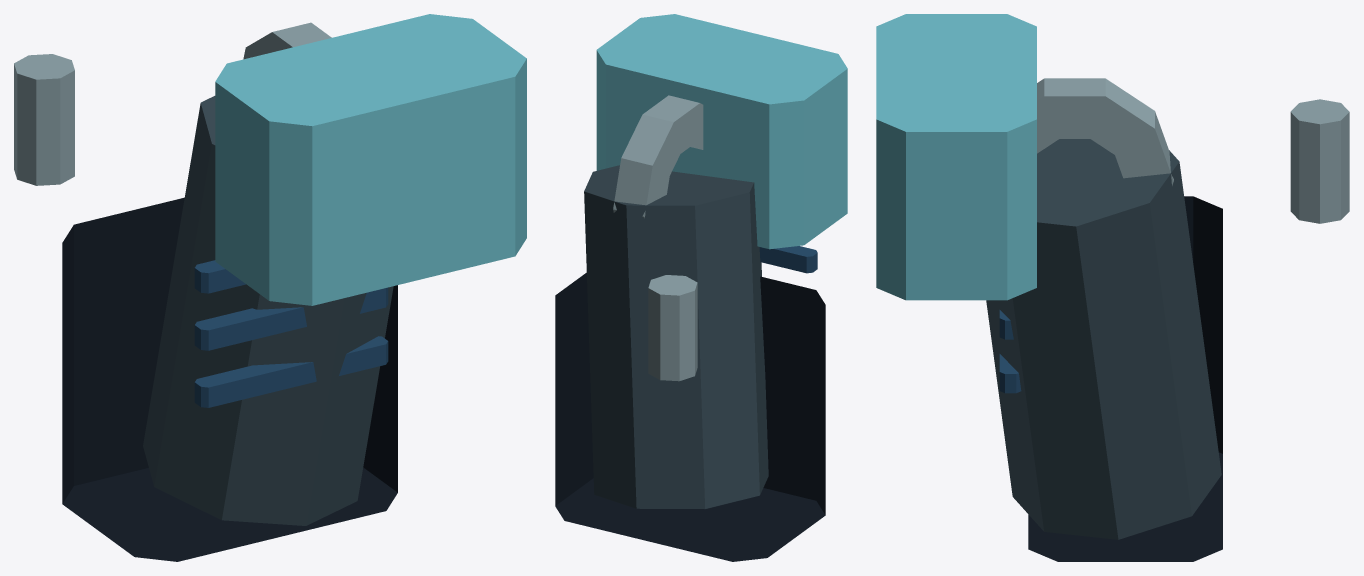
The model's file is enemy_marksman_shin_r.obj.
The picture shows the model from 3 angles, left to right: view 1: azimuth 30°, elevation 25°; view 2: azimuth 150°, elevation 25°; view 3: azimuth 270°, elevation 25°; orthographic projection. The views are drawn at different scales.
Bounding box in the file's own units: 0.3988 × 0.59 × 0.56.
